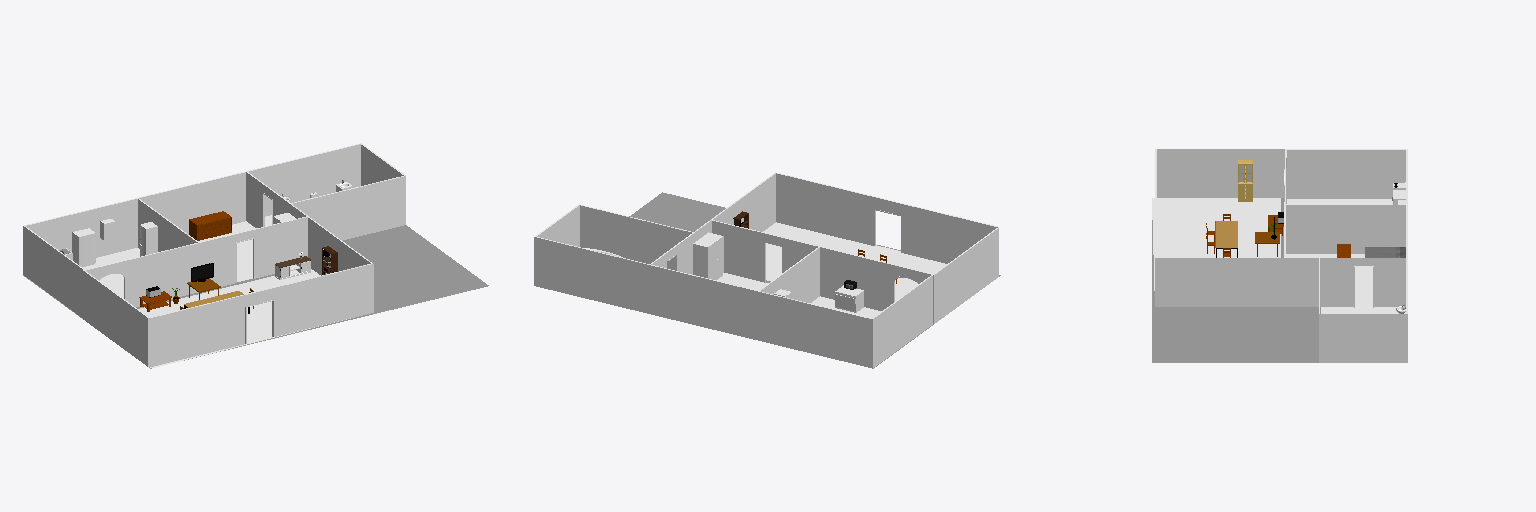
The model's file is CASALEÑADOR.obj.
3 views of the same model, side by side, from view 1: azimuth 30°, elevation 25°; view 2: azimuth 150°, elevation 25°; view 3: azimuth 270°, elevation 25° (orthographic).
Visible parts, largest first — view 1: wall_4_22, wall_2_11, ground_1, wall_12_70, wall_10_59, wall_8_47, wall_1_5, wall_6_35, wall_5_28, room_13_74, wall_3_17, wall_9_53 (+4 smaller); view 2: wall_4_23, wall_2_10, wall_10_58, wall_6_34, wall_8_46, wall_12_71, wall_1_5, room_13_74, wall_5_28, ground_1, wall_3_17, wall_7_41 (+3 smaller); view 3: ground_1, wall_3_16, room_13_74, wall_1_4, wall_5_29, wall_7_40, wall_9_52, wall_11_64, room_15_76, room_14_75, Table_358, room_16_77.
Part boxes in pixels (x1,y1,x2,y2): wall_4_22: (150, 264, 373, 366); wall_2_11: (86, 217, 307, 306); ground_1: (23, 223, 488, 368); wall_12_70: (293, 176, 405, 240); wall_10_59: (249, 144, 360, 216); wall_8_47: (139, 172, 245, 234); wall_1_5: (83, 271, 148, 366); wall_6_35: (26, 199, 137, 257); wall_5_28: (23, 226, 82, 317); room_13_74: (138, 269, 350, 367); wall_3_17: (308, 218, 370, 275); wall_9_53: (246, 172, 305, 227); wall_4_23: (776, 173, 997, 263); wall_2_10: (712, 221, 933, 323); wall_10_58: (534, 237, 648, 313); wall_6_34: (758, 292, 872, 368); wall_8_46: (649, 265, 757, 339); wall_12_71: (580, 205, 691, 269); wall_1_5: (934, 228, 998, 323); room_13_74: (763, 222, 946, 300); wall_5_28: (873, 276, 932, 367); ground_1: (629, 192, 1000, 368); wall_3_17: (713, 174, 775, 231); wall_7_41: (761, 248, 819, 302); ground_1: (1152, 198, 1320, 362); wall_3_16: (1155, 258, 1285, 306); room_13_74: (1152, 198, 1280, 290); wall_1_4: (1157, 149, 1284, 197); wall_5_29: (1287, 150, 1405, 198); wall_7_40: (1286, 205, 1405, 253); wall_9_52: (1285, 258, 1405, 306); wall_11_64: (1319, 314, 1407, 362); room_15_76: (1286, 254, 1372, 306); room_14_75: (1286, 199, 1392, 204); Table_358: (1215, 221, 1237, 247); room_16_77: (1321, 307, 1405, 313).
Bounding box in the file's own units: 1807 × 250 × 1182.